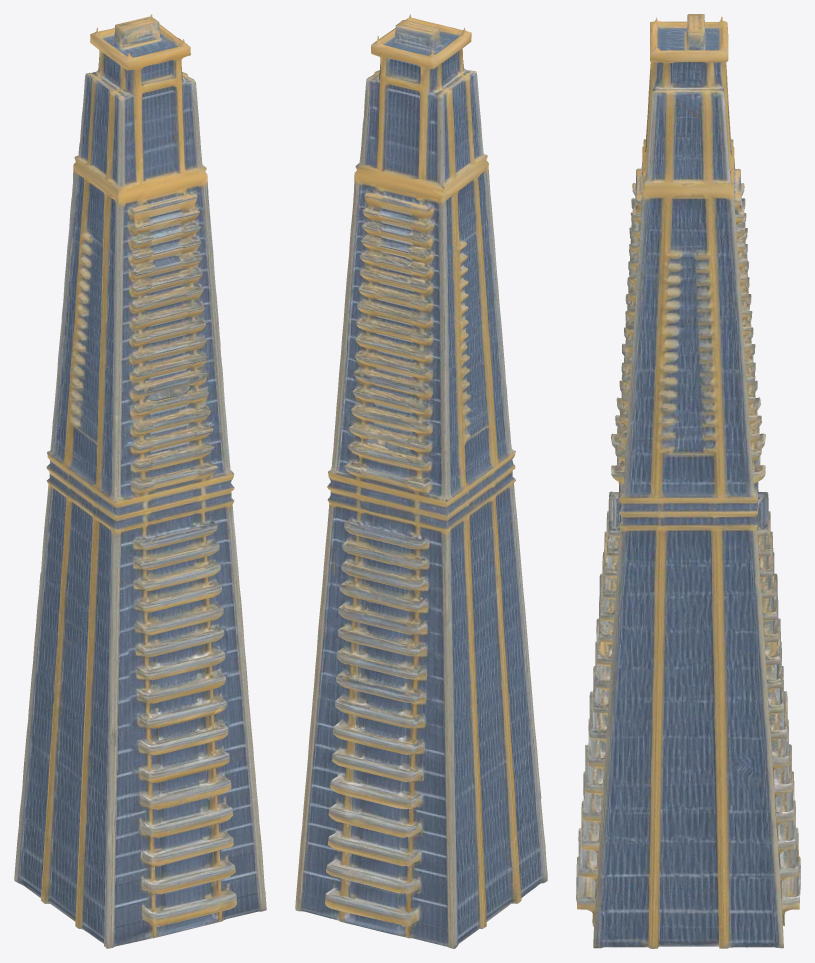
The model's file is tower-opt.glb.
3 views of the same model, side by side, from view 1: azimuth 30°, elevation 25°; view 2: azimuth 150°, elevation 25°; view 3: azimuth 270°, elevation 25° (orthographic).
Size of the model in its own units: 0.3718 by 1.91 by 0.4392.
Materials: 1 (1 with a texture image).
